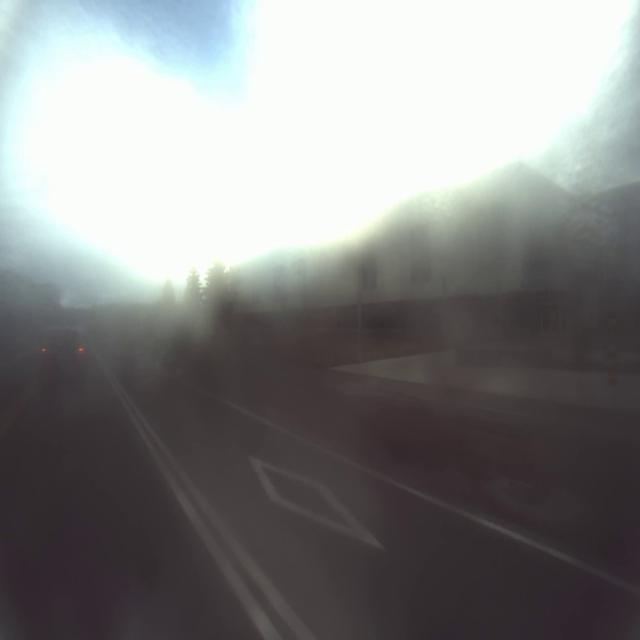car: (37, 314, 95, 406)
